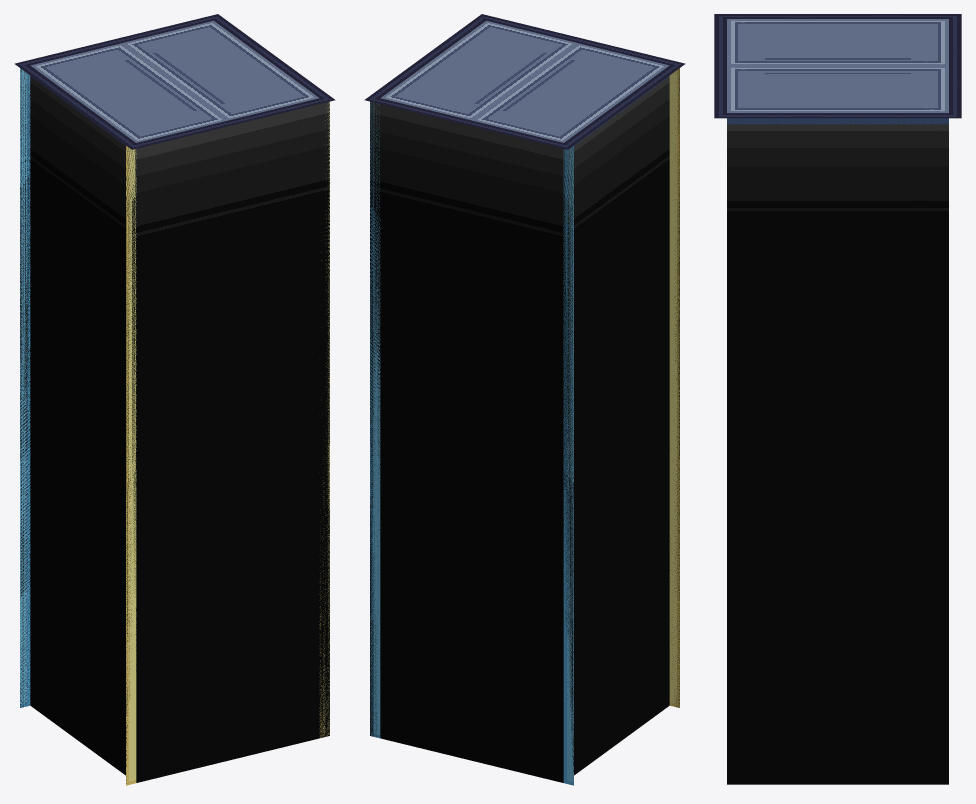
Rendered from Trapdoor.gltf.
3 views of the same model, side by side, from view 1: azimuth 30°, elevation 25°; view 2: azimuth 150°, elevation 25°; view 3: azimuth 270°, elevation 25° (orthographic). The views are drawn at different scales.
Visible parts, largest first — view 1: Pit, Left, Right; view 2: Pit, Left, Right; view 3: Pit, Right, Left.
Part boxes in pixels (bbox=[...]): Pit: bbox=[14, 14, 335, 785]; Left: bbox=[30, 43, 227, 145]; Right: bbox=[122, 20, 319, 120]; Pit: bbox=[364, 14, 685, 785]; Left: bbox=[472, 43, 669, 145]; Right: bbox=[380, 20, 577, 120]; Pit: bbox=[714, 14, 961, 784]; Right: bbox=[727, 66, 948, 124]; Left: bbox=[727, 19, 948, 65].
Size of the model in its own units: 2 by 6 by 2.
1 material, 1 textured.
